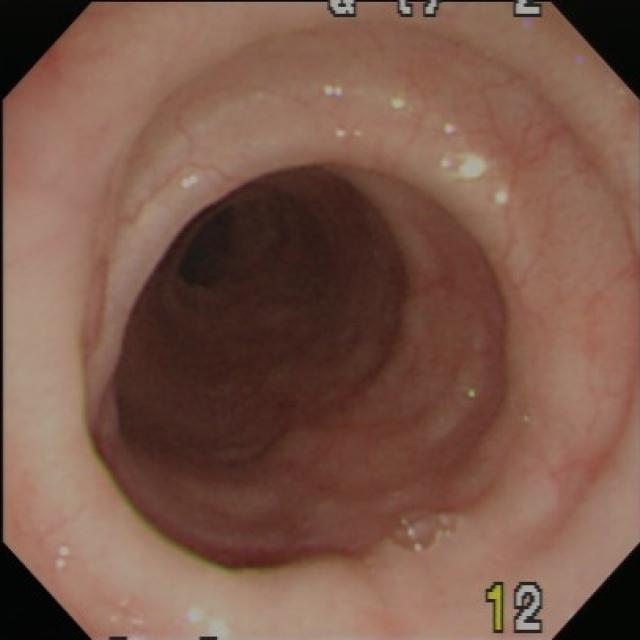A: (262, 342, 432, 503)
E: (170, 193, 305, 314)
J: (386, 509, 462, 554), (449, 350, 487, 410)
S: (325, 3, 545, 20), (485, 581, 547, 636)
U: (438, 145, 490, 182), (185, 601, 229, 640), (108, 595, 146, 629), (180, 170, 207, 191), (53, 542, 72, 569), (388, 94, 413, 113), (334, 126, 363, 140), (321, 83, 346, 99), (492, 188, 511, 207)
